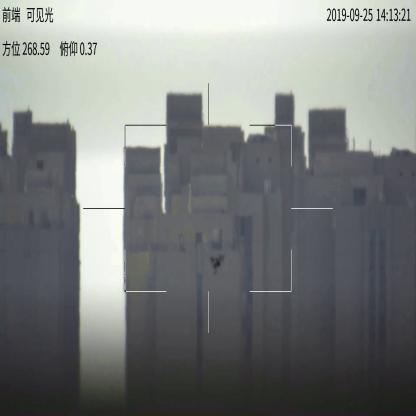uav: (206, 253, 224, 276)
